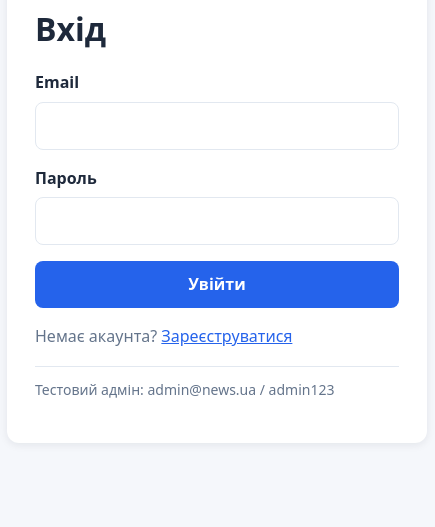
Scenario: LoginPage › показує повідомлення сервера при невірному паролі
Type "admin@news.ua" into the field labelled "Email" at x=217, y=126, box [35,102,399,150]
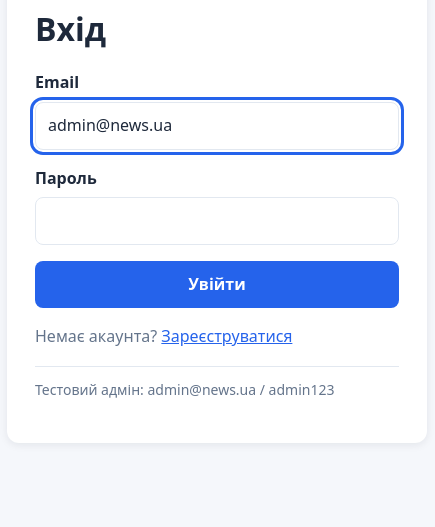
Type "wrong" into the password field labelled "Пароль" at x=217, y=221, box [35,197,399,245]
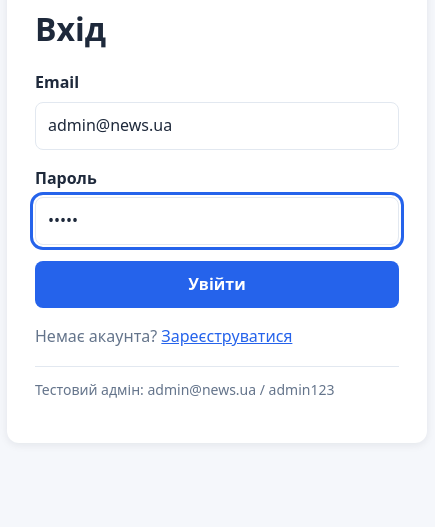
Click the button "Увійти" at x=217, y=285, box [35,261,399,308]
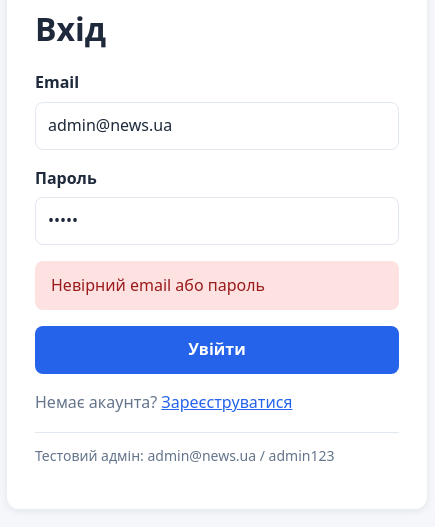
Check: the message reads "Невірний email або пароль", box [51,274,265,296]
